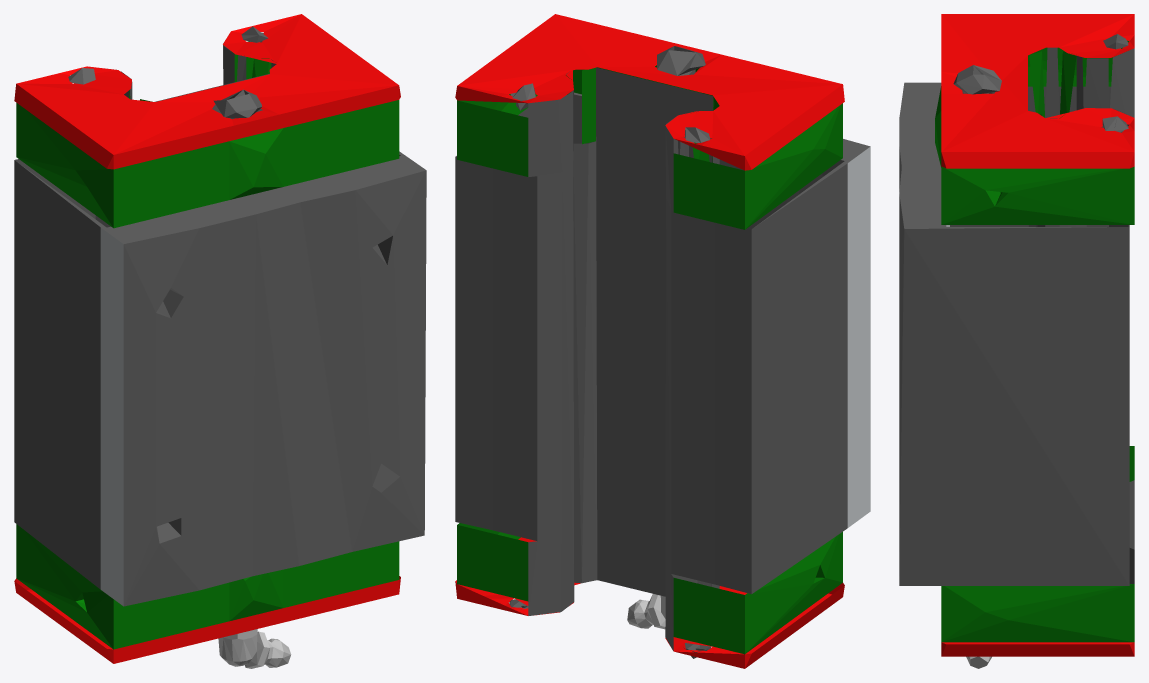
Rendered from linear-rail.glb.
3 views of the same model, side by side, from view 1: azimuth 30°, elevation 25°; view 2: azimuth 150°, elevation 25°; view 3: azimuth 270°, elevation 25° (orthographic).
Size of the model in its own units: 0.07 by 0.1285 by 0.0475.
